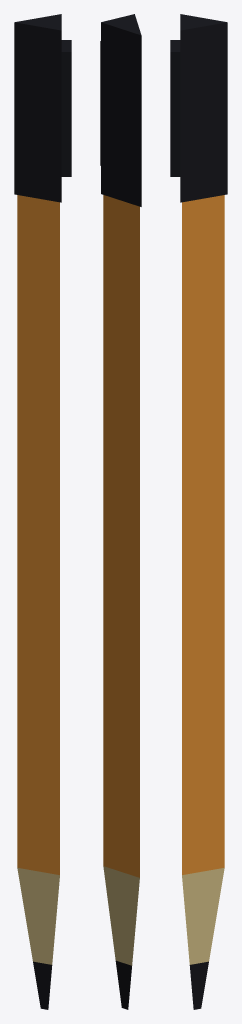
Rendered from lapiz.fbx.
The picture shows the model from 3 angles, left to right: view 1: azimuth 90°, elevation 25°; view 2: azimuth 210°, elevation 25°; view 3: azimuth 270°, elevation 25°; orthographic projection.
Parts seen in each view (by area): view 1: lapiz; view 2: lapiz; view 3: lapiz.
Boxes of the visible parts, x1,y1,x2,y2 form: lapiz: (14,14,71,1009); lapiz: (100,14,141,1009); lapiz: (170,14,227,1009).
Bounding box in the file's own units: 0.6125 × 0.9 × 17.
